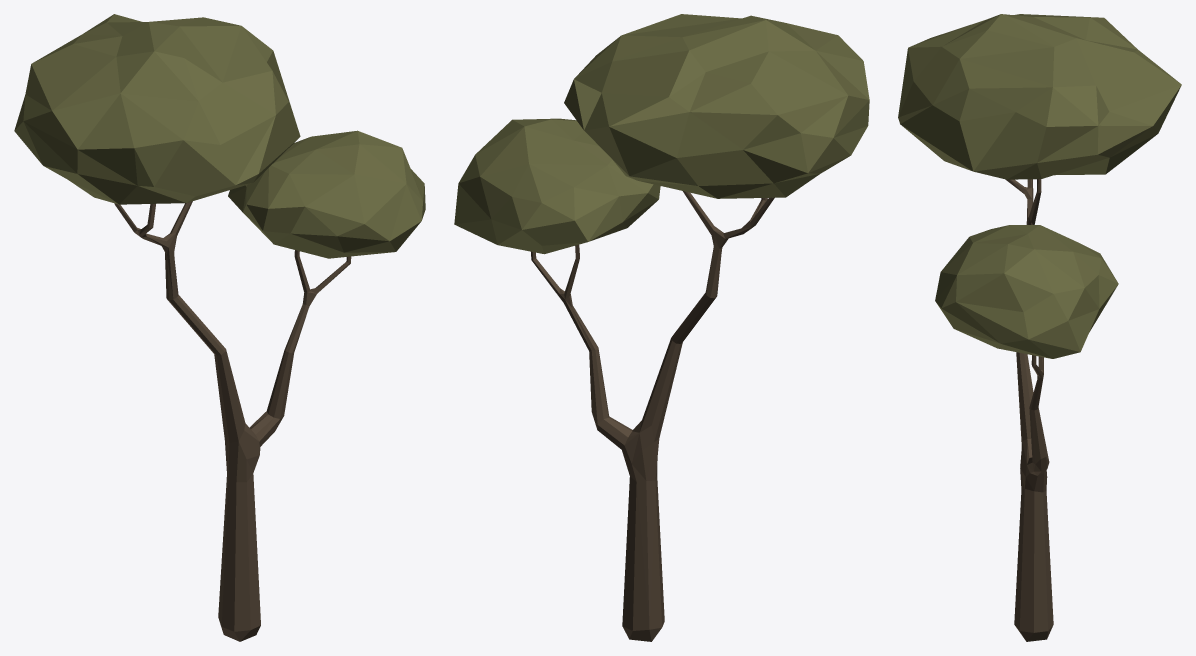
Rendered from SM_Envr_Nature_Tree_Large_06.fbx.
3 views of the same model, side by side, from view 1: azimuth 30°, elevation 25°; view 2: azimuth 150°, elevation 25°; view 3: azimuth 270°, elevation 25° (orthographic). The views are drawn at different scales.
Parts seen in each view (by area): view 1: SM_Envr_Nature_Tree_Large_06; view 2: SM_Envr_Nature_Tree_Large_06; view 3: SM_Envr_Nature_Tree_Large_06.
Boxes of the visible parts, box(x1,y1,x2,y2) form: SM_Envr_Nature_Tree_Large_06: box(14, 14, 425, 641); SM_Envr_Nature_Tree_Large_06: box(454, 14, 869, 641); SM_Envr_Nature_Tree_Large_06: box(898, 14, 1181, 641).
Bounding box in the file's own units: 552 × 861 × 382.
